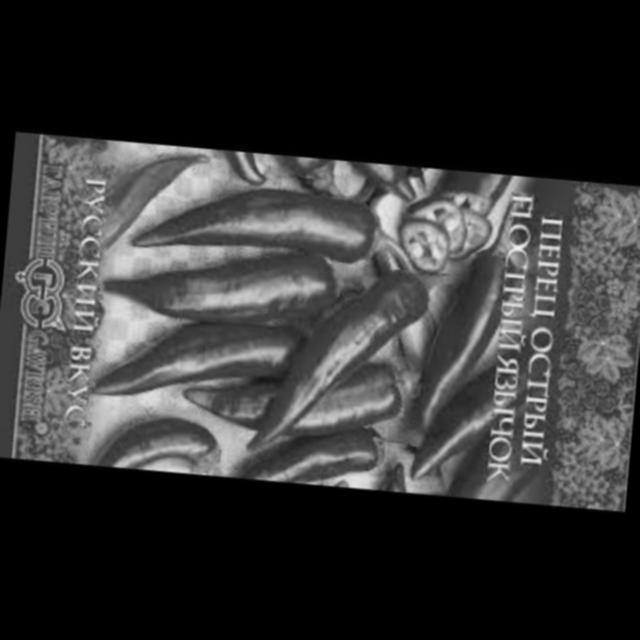ot cay: (235, 234, 464, 476), (125, 161, 420, 276), (88, 224, 356, 346), (75, 304, 334, 419), (404, 210, 536, 434), (175, 329, 415, 444), (412, 338, 538, 488), (82, 144, 210, 258), (230, 408, 406, 489), (69, 392, 234, 474), (400, 165, 520, 276), (340, 158, 436, 208), (274, 152, 359, 204), (217, 146, 281, 188)
